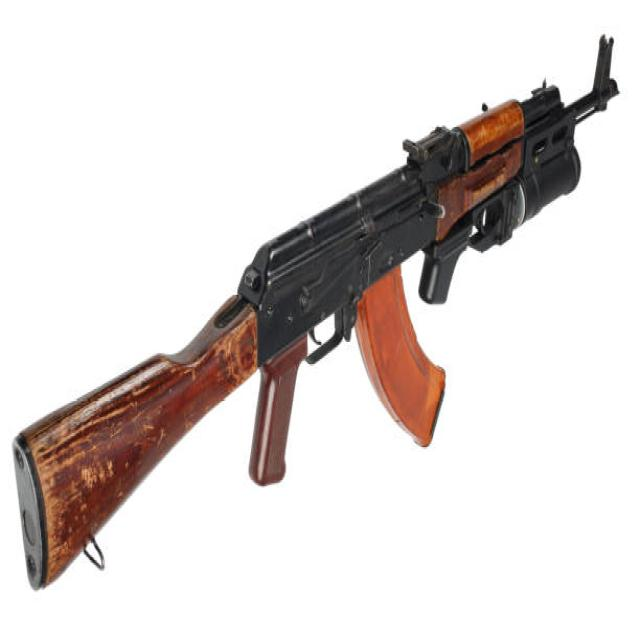rifle: (12, 27, 625, 597)
